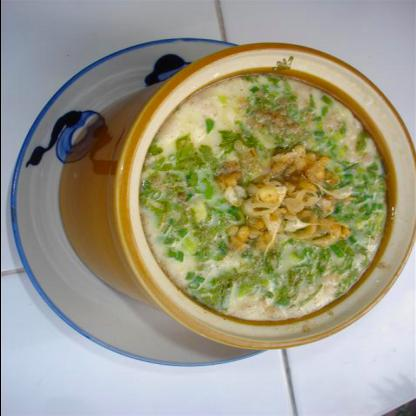Kaithoon: (117, 53, 405, 347)
